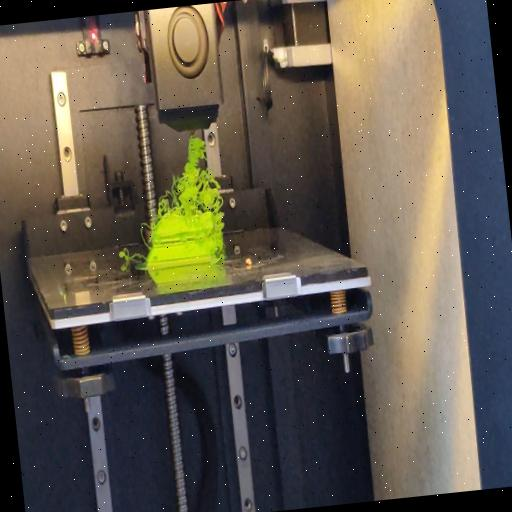spaghetti: (148, 134, 224, 221), (214, 214, 228, 264), (116, 248, 146, 270), (140, 219, 154, 250)
